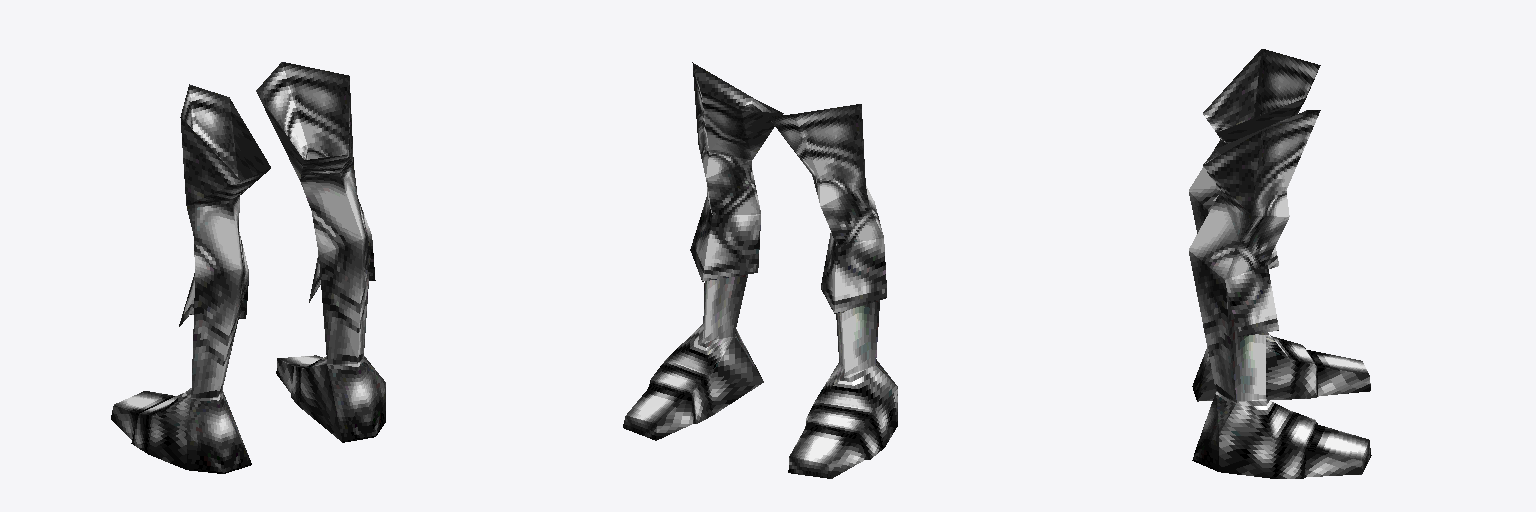
The picture shows the model from 3 angles: view 1: azimuth 30°, elevation 25°; view 2: azimuth 150°, elevation 25°; view 3: azimuth 270°, elevation 25°; orthographic projection.
Parts seen in each view (by area): view 1: defaultobject; view 2: defaultobject; view 3: defaultobject.
Boxes of the visible parts, box(x1,y1,x2,y2) form: defaultobject: box(111, 62, 385, 473); defaultobject: box(623, 62, 897, 478); defaultobject: box(1189, 49, 1371, 478).
Bounding box in the file's own units: 17.44 × 24.71 × 12.2.
Materials: 1 (1 with a texture image).